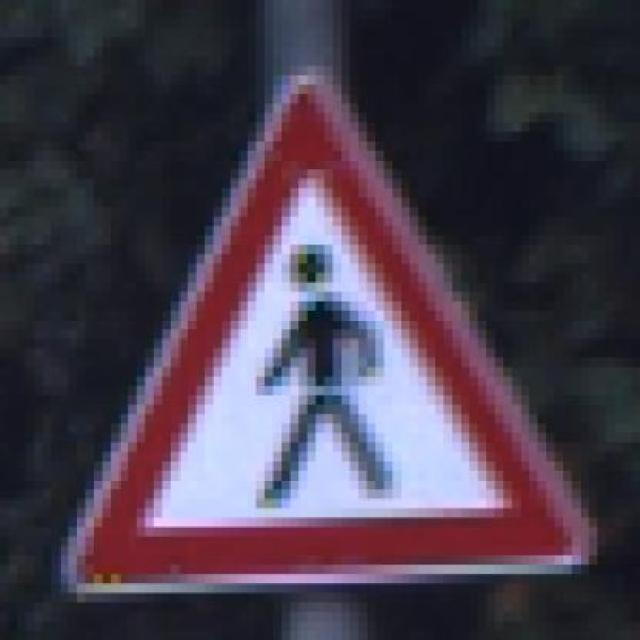Pedestrian Crossing: (42, 65, 598, 593)
